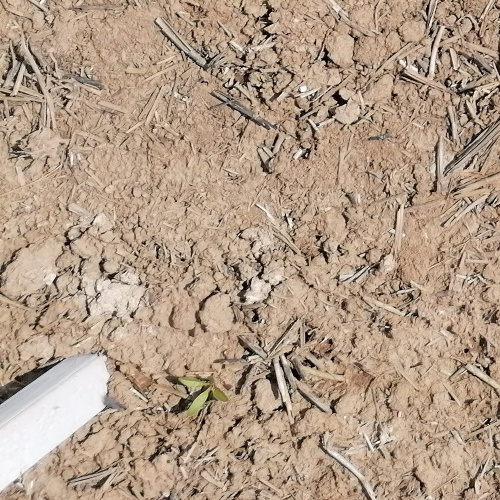beet: (178, 372, 229, 419)
